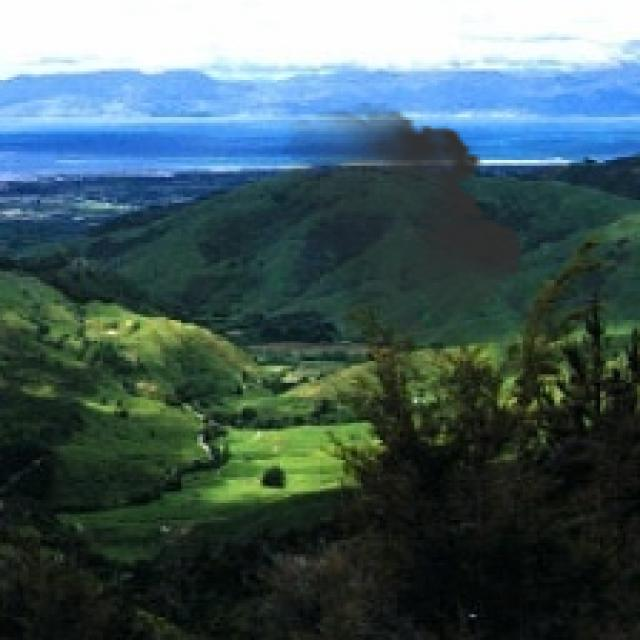smoke: (269, 103, 534, 366)
